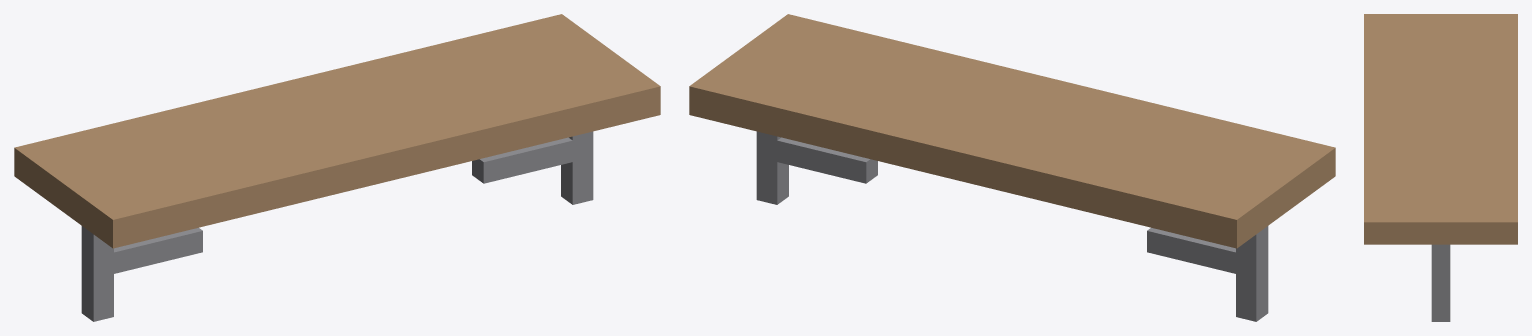
The model's file is wall_shelf.glb.
3 views of the same model, side by side, from view 1: azimuth 30°, elevation 25°; view 2: azimuth 150°, elevation 25°; view 3: azimuth 270°, elevation 25° (orthographic). The views are drawn at different scales.
Visible parts, largest first — view 1: shelf, bracket_l_v, bracket_r_h, bracket_l_h, bracket_r_v; view 2: shelf, bracket_r_h, bracket_l_h, bracket_l_v, bracket_r_v; view 3: shelf, bracket_r_v.
Part boxes in pixels (box(x1,y1,x2,y2)): shelf: box(14, 14, 660, 248); bracket_l_v: box(81, 226, 113, 321); bracket_r_h: box(472, 137, 572, 183); bracket_l_h: box(101, 227, 202, 273); bracket_r_v: box(561, 131, 593, 204); shelf: box(689, 14, 1335, 248); bracket_r_h: box(763, 137, 877, 183); bracket_l_h: box(1147, 227, 1249, 277); bracket_l_v: box(1236, 226, 1268, 321); bracket_r_v: box(756, 131, 788, 204); shelf: box(1364, 14, 1517, 244); bracket_r_v: box(1431, 244, 1450, 321).
Bounding box in the file's own units: 0.8 × 0.195 × 0.25.
